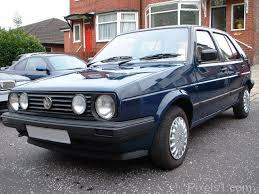fender-dent: (142, 64, 195, 101)
